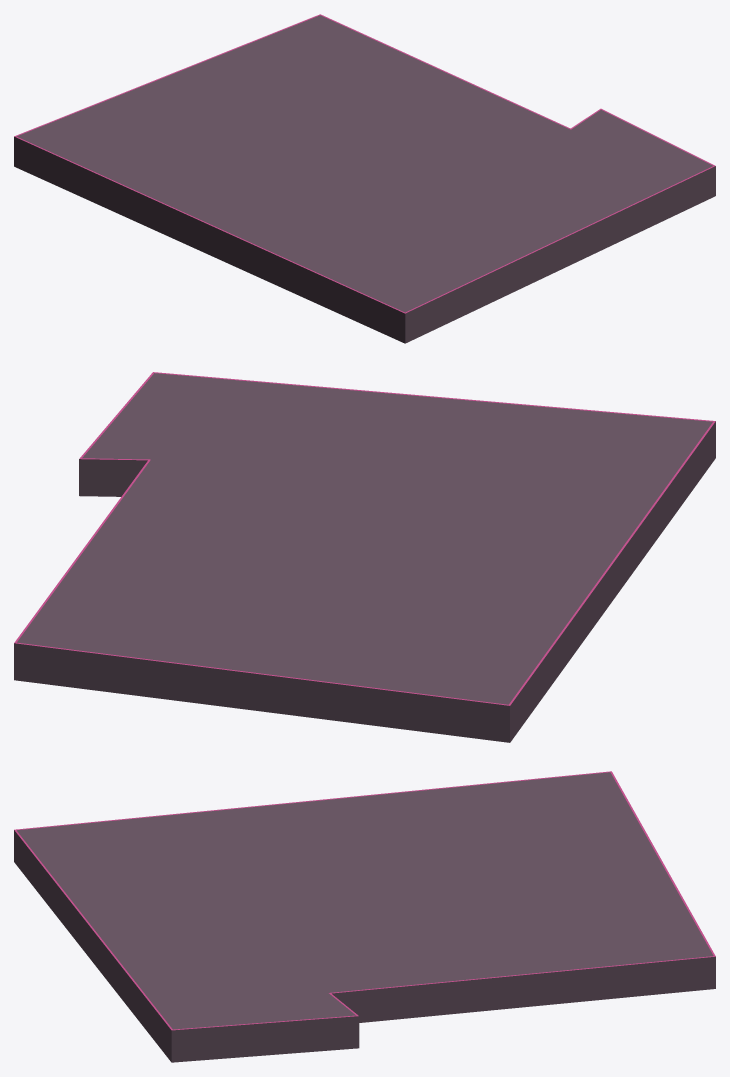
The model's file is way-205654195.glb.
3 renders of one model, top to bottom at view 1: azimuth 30°, elevation 25°; view 2: azimuth 150°, elevation 25°; view 3: azimuth 270°, elevation 25°, orthographic. The views are drawn at different scales.
Visible parts, largest first — view 1: way-205654195; view 2: way-205654195; view 3: way-205654195.
Part boxes in pixels (x1,y1,x2,y2): way-205654195: (14,14,715,343); way-205654195: (14,372,715,742); way-205654195: (14,771,715,1062).
Bounding box in the file's own units: 51.72 × 3 × 59.2.
